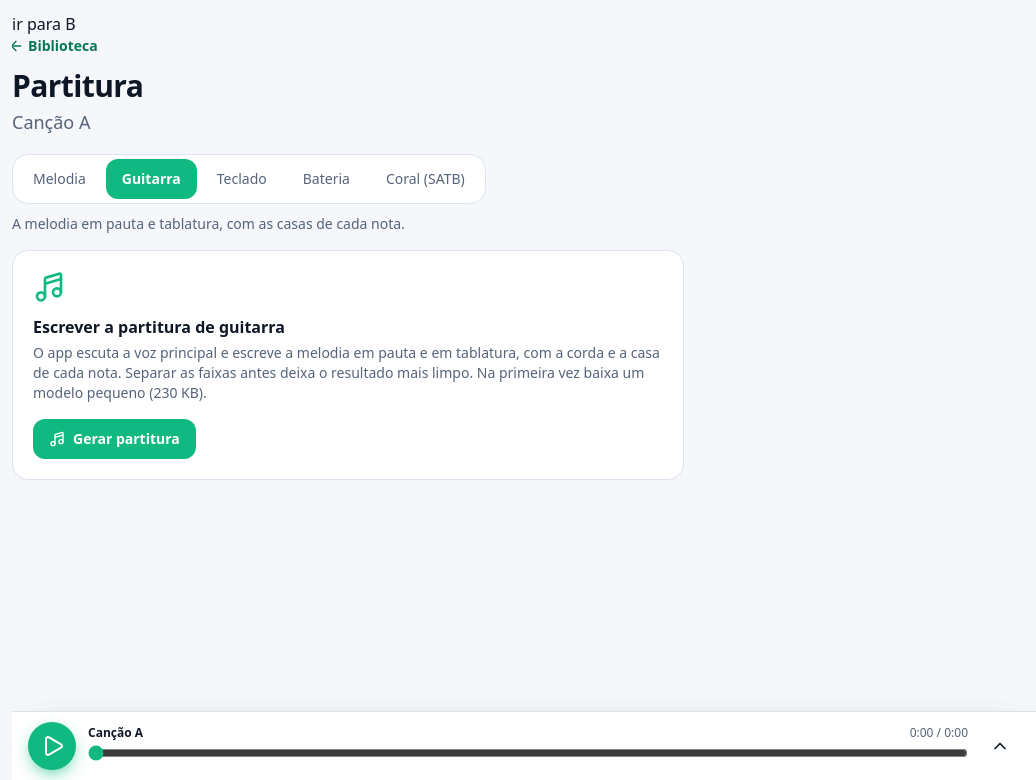
Test case: score page navigation › does not show song A’s melody on song B when A finishes later
The image size is (1036, 780).
Click the button "Gerar partitura" at point(114, 439), box top-left (33, 419), bottom-right (196, 459)
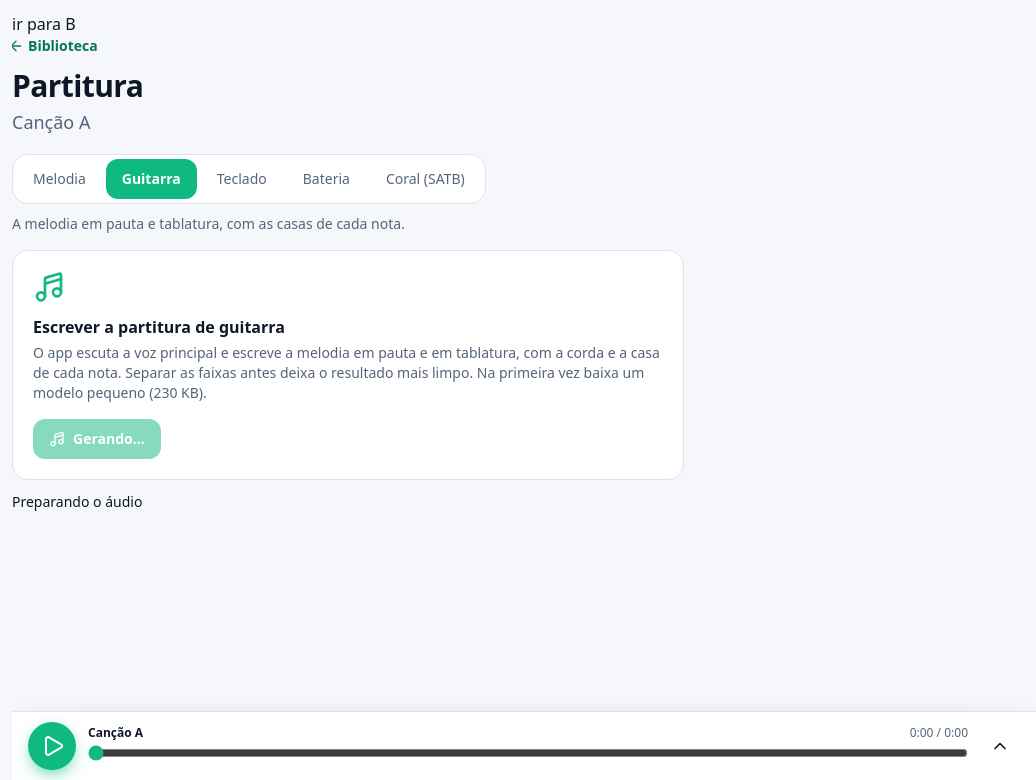
Click the link "ir para B" at point(44, 24), box top-left (12, 13), bottom-right (76, 35)
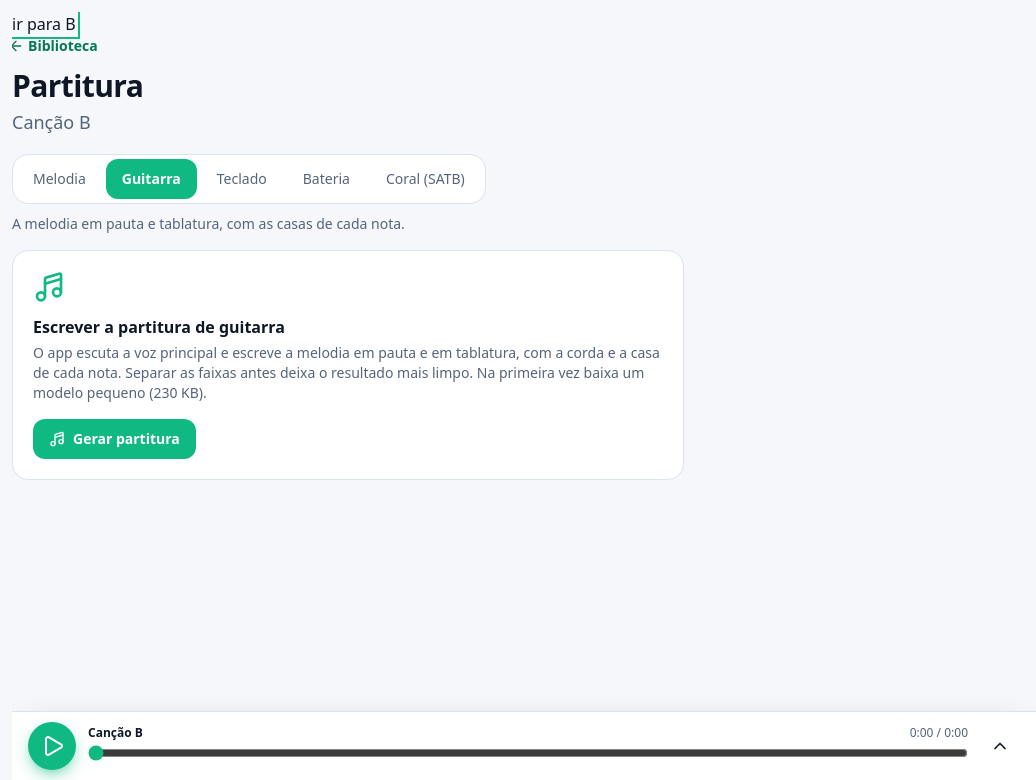
Expected: the 1st text "Canção B" is shown, top-left (12, 110), bottom-right (91, 134)
Expected: the button "Gerar partitura" is enabled, top-left (33, 419), bottom-right (196, 459)
